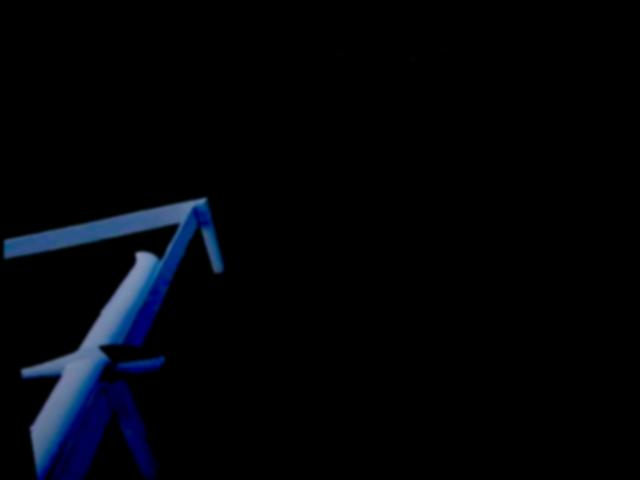iha: (3, 235, 198, 480)
